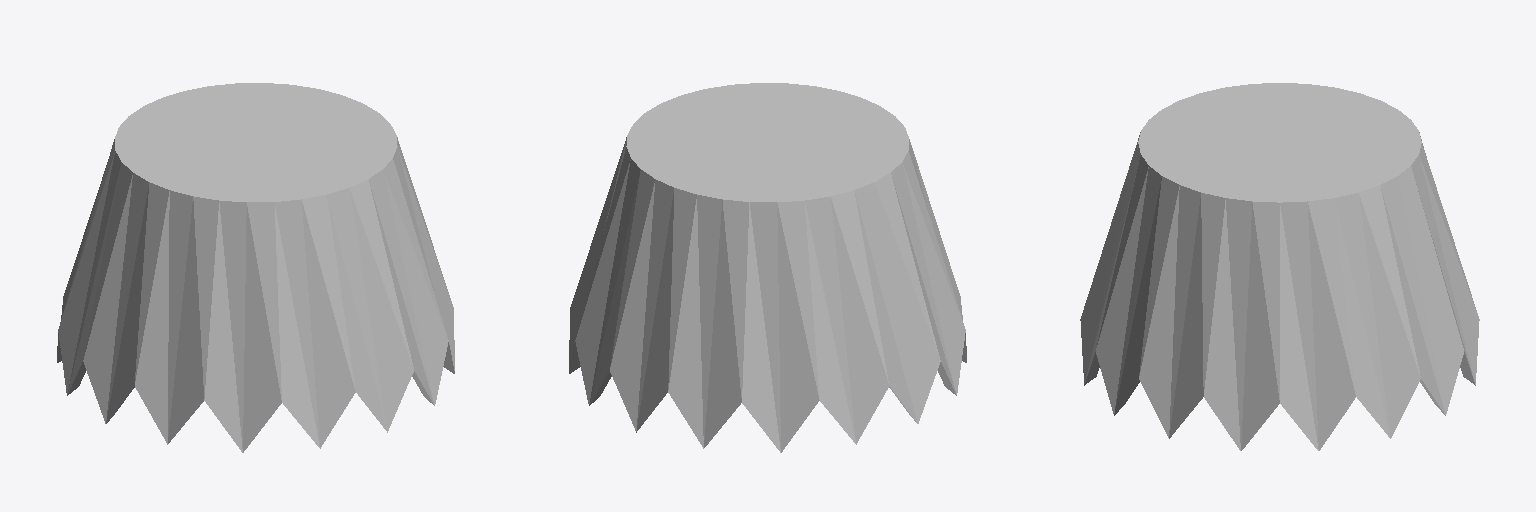
File: skirt.obj
The picture shows the model from 3 angles: view 1: azimuth 30°, elevation 25°; view 2: azimuth 150°, elevation 25°; view 3: azimuth 270°, elevation 25°; orthographic projection.
Parts seen in each view (by area): view 1: Cylinder; view 2: Cylinder; view 3: Cylinder.
Part boxes in pixels (left/top/right/bottom): Cylinder: left=57, top=83, right=454, bottom=452; Cylinder: left=569, top=83, right=966, bottom=452; Cylinder: left=1080, top=83, right=1479, bottom=450.
Size of the model in its own units: 16.49 by 10.33 by 16.49.